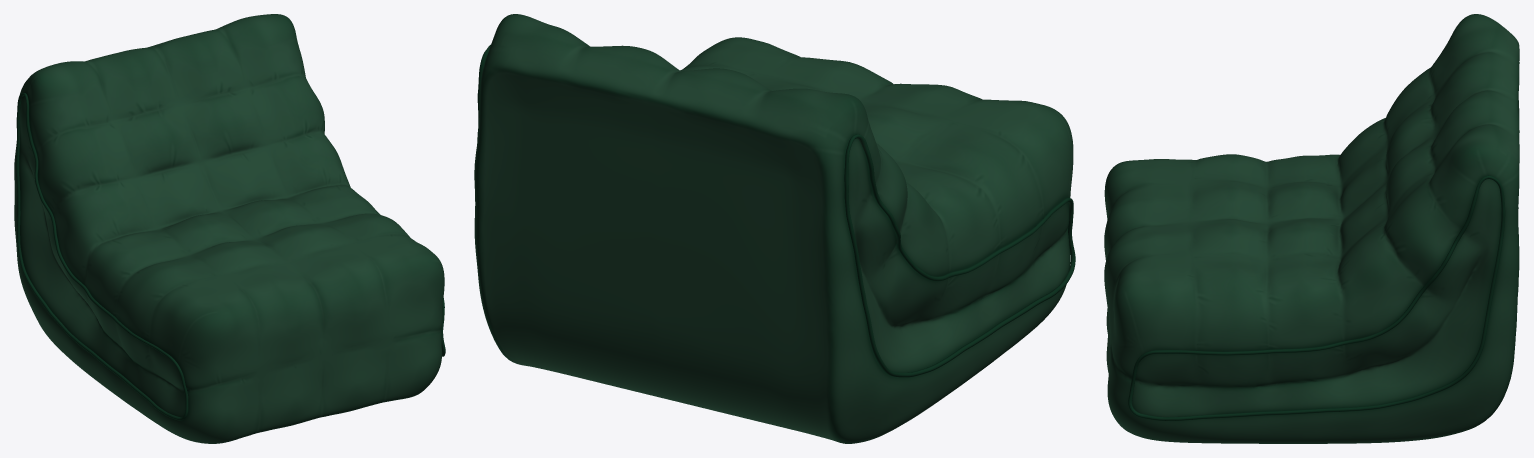
File: sofa.glb
The picture shows the model from 3 angles, left to right: view 1: azimuth 30°, elevation 25°; view 2: azimuth 150°, elevation 25°; view 3: azimuth 270°, elevation 25°; orthographic projection. The views are drawn at different scales.
Parts seen in each view (by area): view 1: fauteil_default_0; view 2: fauteil_default_0; view 3: fauteil_default_0.
Part boxes in pixels (box(x1,y1,x2,y2)): fauteil_default_0: box(14, 14, 445, 443); fauteil_default_0: box(474, 14, 1075, 443); fauteil_default_0: box(1104, 14, 1519, 443).
Size of the model in its own units: 0.8968 by 0.7928 by 1.
Materials: 1 (1 with a texture image).
